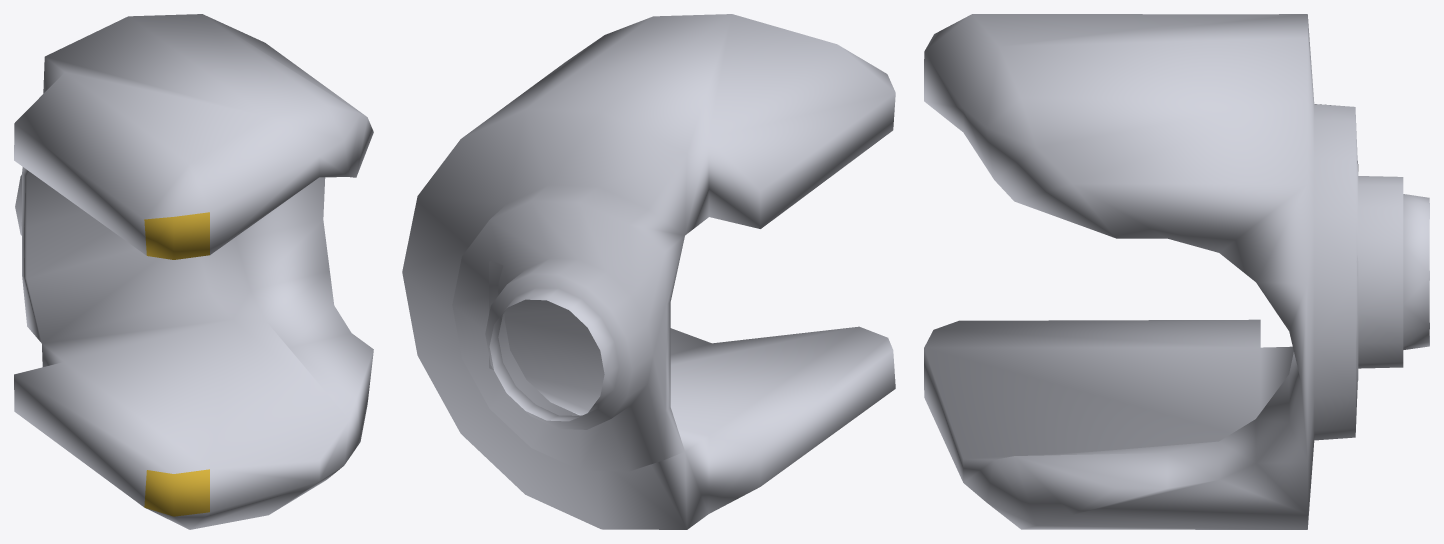
3 renders of one model, left to right at view 1: azimuth 30°, elevation 25°; view 2: azimuth 150°, elevation 25°; view 3: azimuth 270°, elevation 25°, orthographic. The views are drawn at different scales.
Visible parts, largest first — view 1: f30_f40; view 2: f30_f40; view 3: f30_f40.
Part boxes in pixels (x1,y1,x2,y2): f30_f40: (14,14,373,529); f30_f40: (402,14,895,529); f30_f40: (924,14,1429,529).
Size of the model in its own units: 0.0195 by 0.023 by 0.0225.
